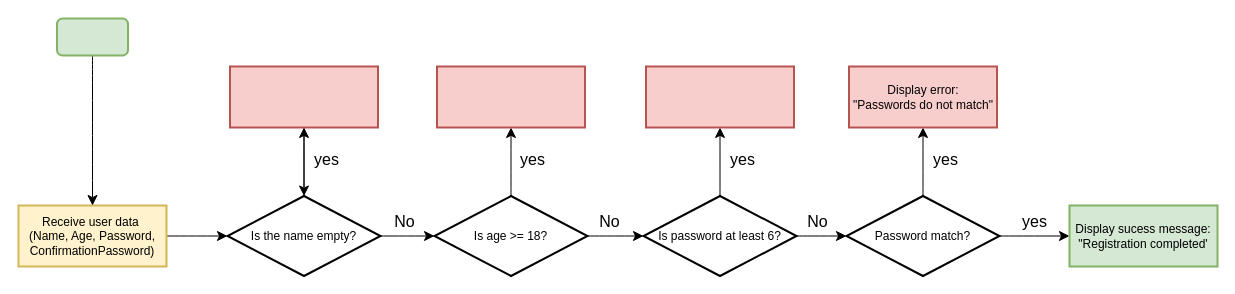
Some shapes in this 1235 by 294 pixel diagram are drawn without their labels. The centre of each missing label's shape, as x and y in pixels:
Display error: "Age must be 18 or older": the point at 511,96
Display error: "Name cannot be empty": the point at 303,96
Display error: "Password must be equal to or greater than 6 characters": the point at 719,96
Start: the point at 92,36
